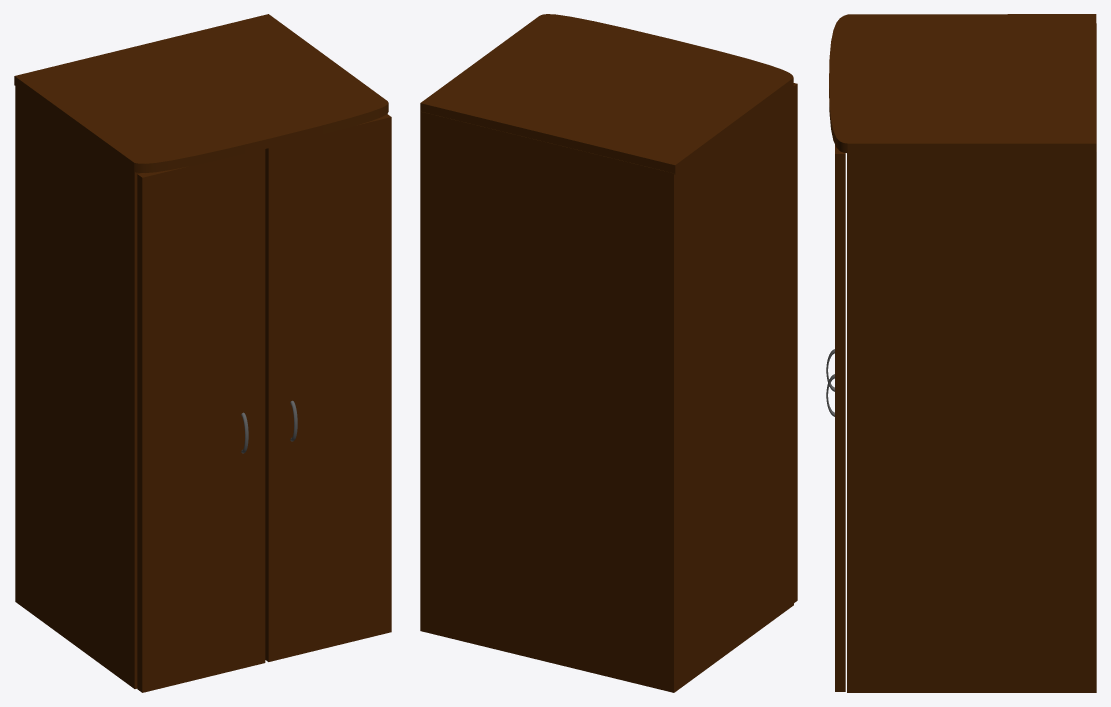
Rendered from Wardrobe.FBX.
The picture shows the model from 3 angles, left to right: view 1: azimuth 30°, elevation 25°; view 2: azimuth 150°, elevation 25°; view 3: azimuth 270°, elevation 25°; orthographic projection. The views are drawn at different scales.
Visible parts, largest first — view 1: Box002, Box003, Box001, Line001; view 2: Box001, Line001, Box002; view 3: Box001, Line001, Box003.
Boxes of the visible parts, box(x1,y1,x2,y2) form: Box002: box(137, 149, 265, 692); Box003: box(265, 114, 391, 661); Box001: box(15, 86, 140, 688); Line001: box(14, 14, 388, 172); Box001: box(420, 86, 793, 692); Line001: box(420, 14, 793, 174); Box002: box(793, 83, 797, 602); Box001: box(847, 23, 1096, 692); Line001: box(829, 14, 1096, 153); Box003: box(835, 145, 845, 691).
Size of the model in its own units: 1027 by 2031 by 905.
